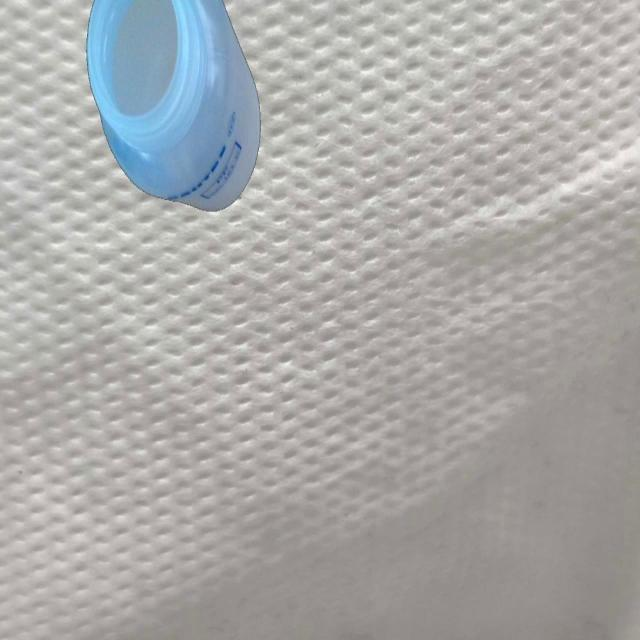bottle: (86, 0, 262, 217)
